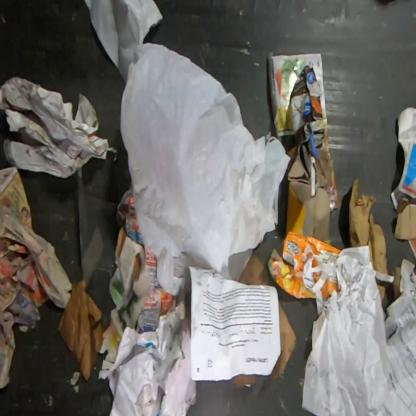cardboard: (286, 65, 332, 243), (348, 179, 388, 274), (324, 128, 342, 213)
soft_plastic: (119, 41, 292, 296)
